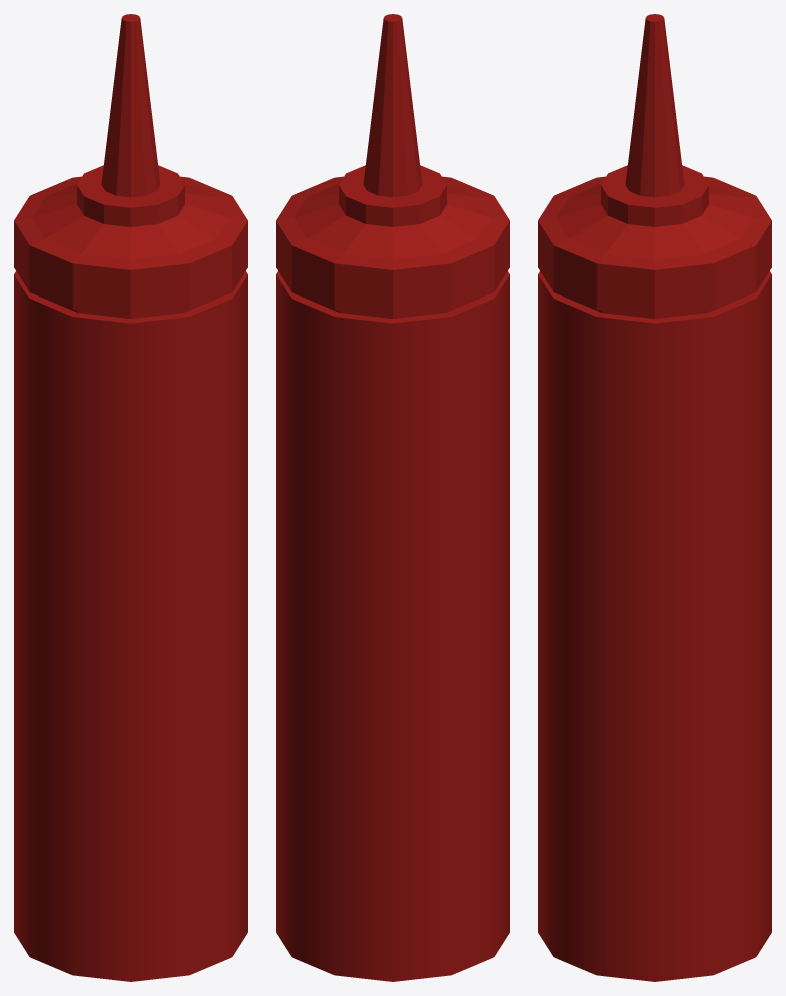
File: SM_ketchup.fbx
3 views of the same model, side by side, from view 1: azimuth 30°, elevation 25°; view 2: azimuth 150°, elevation 25°; view 3: azimuth 270°, elevation 25° (orthographic).
Visible parts, largest first — view 1: ketchup; view 2: ketchup; view 3: ketchup.
Boxes of the visible parts, x1,y1,x2,y2 form: ketchup: (14, 14, 247, 981); ketchup: (276, 14, 509, 981); ketchup: (538, 14, 771, 981).
Bounding box in the file's own units: 12.88 × 55.53 × 12.88.
